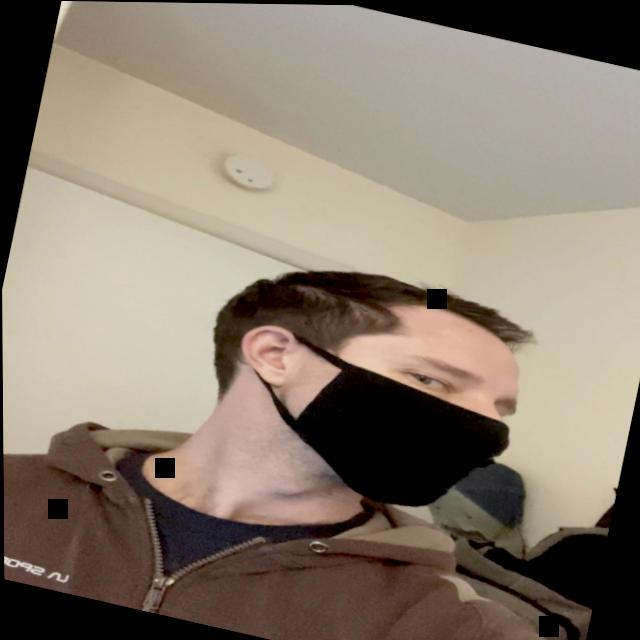Mask: (186, 248, 551, 538)
